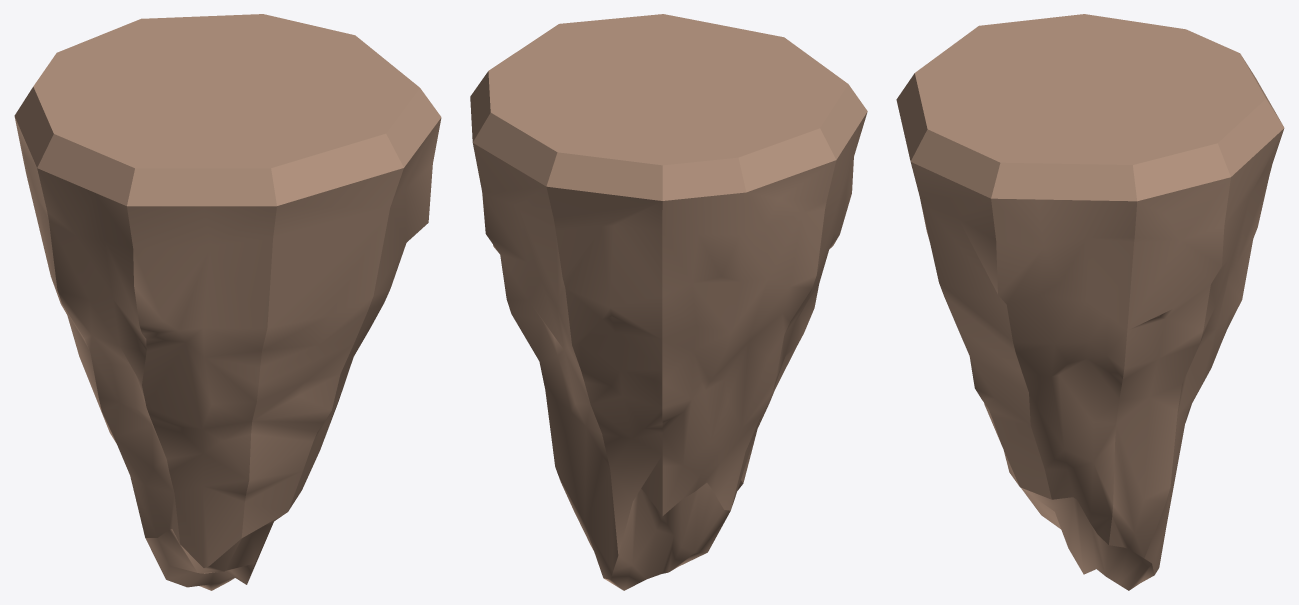
File: tile_2_3.fbx
3 views of the same model, side by side, from view 1: azimuth 30°, elevation 25°; view 2: azimuth 150°, elevation 25°; view 3: azimuth 270°, elevation 25° (orthographic). The views are drawn at different scales.
Visible parts, largest first — view 1: Jump_Map_Tiles_3; view 2: Jump_Map_Tiles_3; view 3: Jump_Map_Tiles_3.
Boxes of the visible parts, box(x1,y1,x2,y2) form: Jump_Map_Tiles_3: box(14, 14, 441, 590); Jump_Map_Tiles_3: box(470, 14, 867, 590); Jump_Map_Tiles_3: box(896, 14, 1284, 590).
Bounding box in the file's own units: 4 × 5.45 × 3.93.
